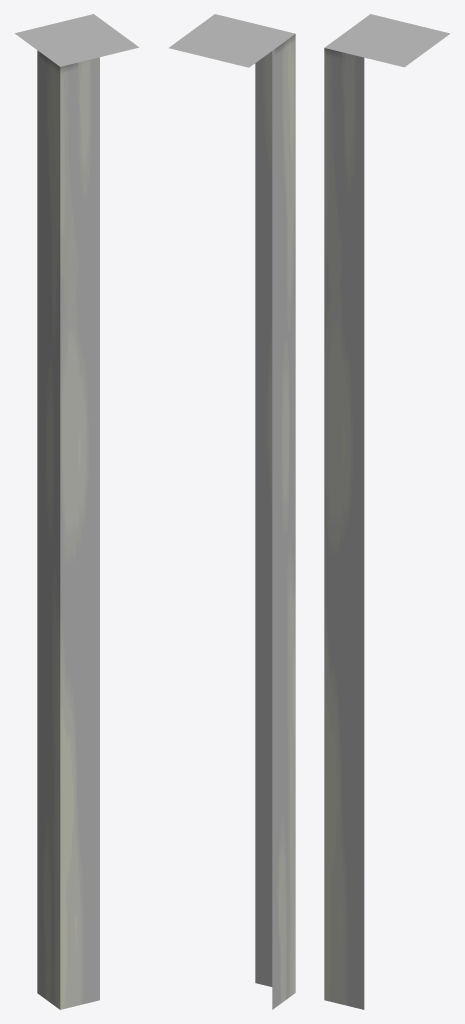
The model's file is W_I__Eckverschluß [Grau4]_1886.glb.
3 views of the same model, side by side, from view 1: azimuth 30°, elevation 25°; view 2: azimuth 150°, elevation 25°; view 3: azimuth 330°, elevation 25° (orthographic).
Visible parts, largest first — view 1: pPlaneShape7, pPlaneShape11; view 2: pPlaneShape7, pPlaneShape11; view 3: pPlaneShape7, pPlaneShape11.
Boxes of the visible parts, x1=… form: pPlaneShape7: x1=37, y1=50, x2=99, y2=1009; pPlaneShape11: x1=15, y1=14, x2=139, y2=66; pPlaneShape7: x1=255, y1=34, x2=295, y2=1009; pPlaneShape11: x1=168, y1=14, x2=295, y2=67; pPlaneShape7: x1=324, y1=48, x2=364, y2=1009; pPlaneShape11: x1=324, y1=14, x2=450, y2=67.
Bounding box in the file's own units: 0.0307 × 0.3486 × 0.0307.
2 materials, 1 textured.
